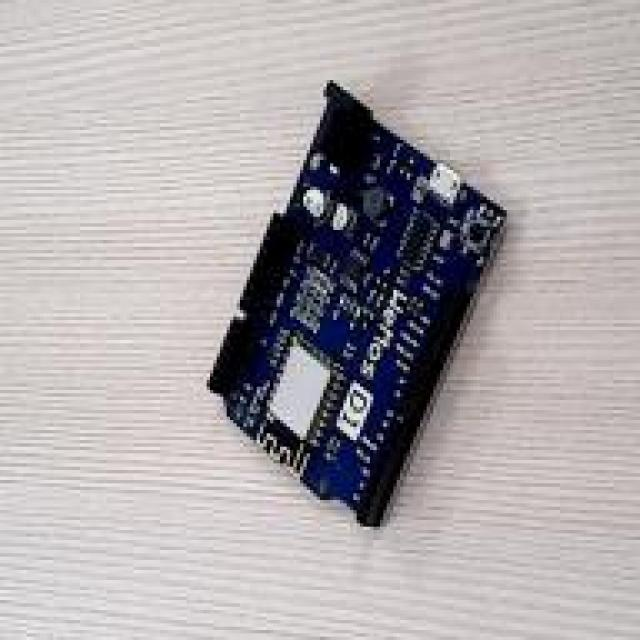Wemos: (208, 81, 504, 524)
